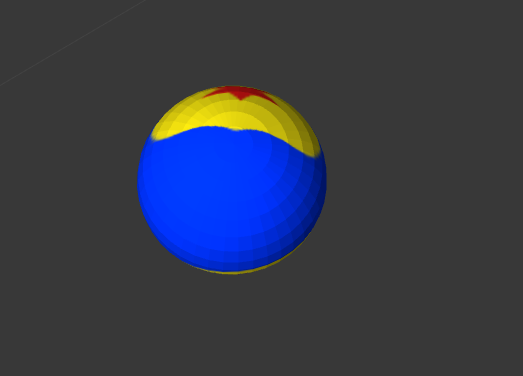toy story ball: (137, 84, 327, 275)
